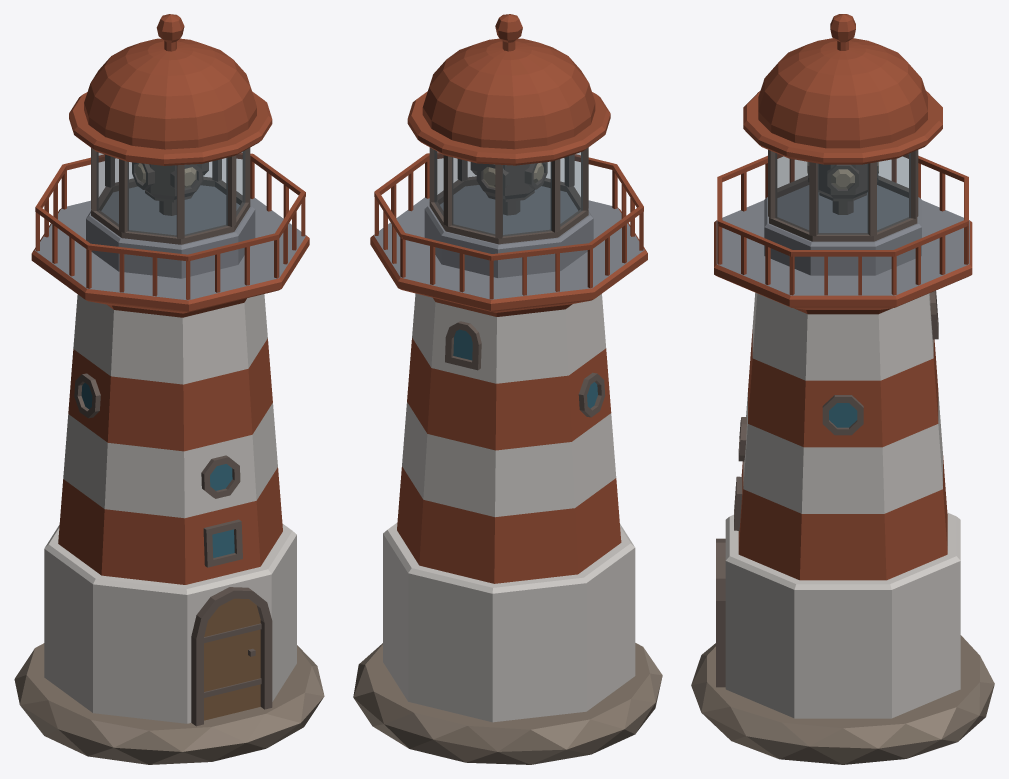
Rendered from striped-river-lighthouse-90d74d.glb.
3 renders of one model, left to right at view 1: azimuth 30°, elevation 25°; view 2: azimuth 150°, elevation 25°; view 3: azimuth 270°, elevation 25°, orthographic.
Parts seen in each view (by area): view 1: tower, lantern-glass, lamp-lens; view 2: tower, lantern-glass, lamp-lens; view 3: tower, lantern-glass, lamp-lens.
Boxes of the visible parts, x1,y1,x2,y2 form: tower: (14,14,324,764); lantern-glass: (97,151,244,236); lamp-lens: (132,162,208,215); tower: (353,14,662,764); lantern-glass: (434,150,582,236); lamp-lens: (470,162,547,215); tower: (691,14,994,764); lantern-glass: (775,153,910,234); lamp-lens: (807,162,878,214).
Size of the model in its own units: 4.83 by 11.95 by 4.78.
